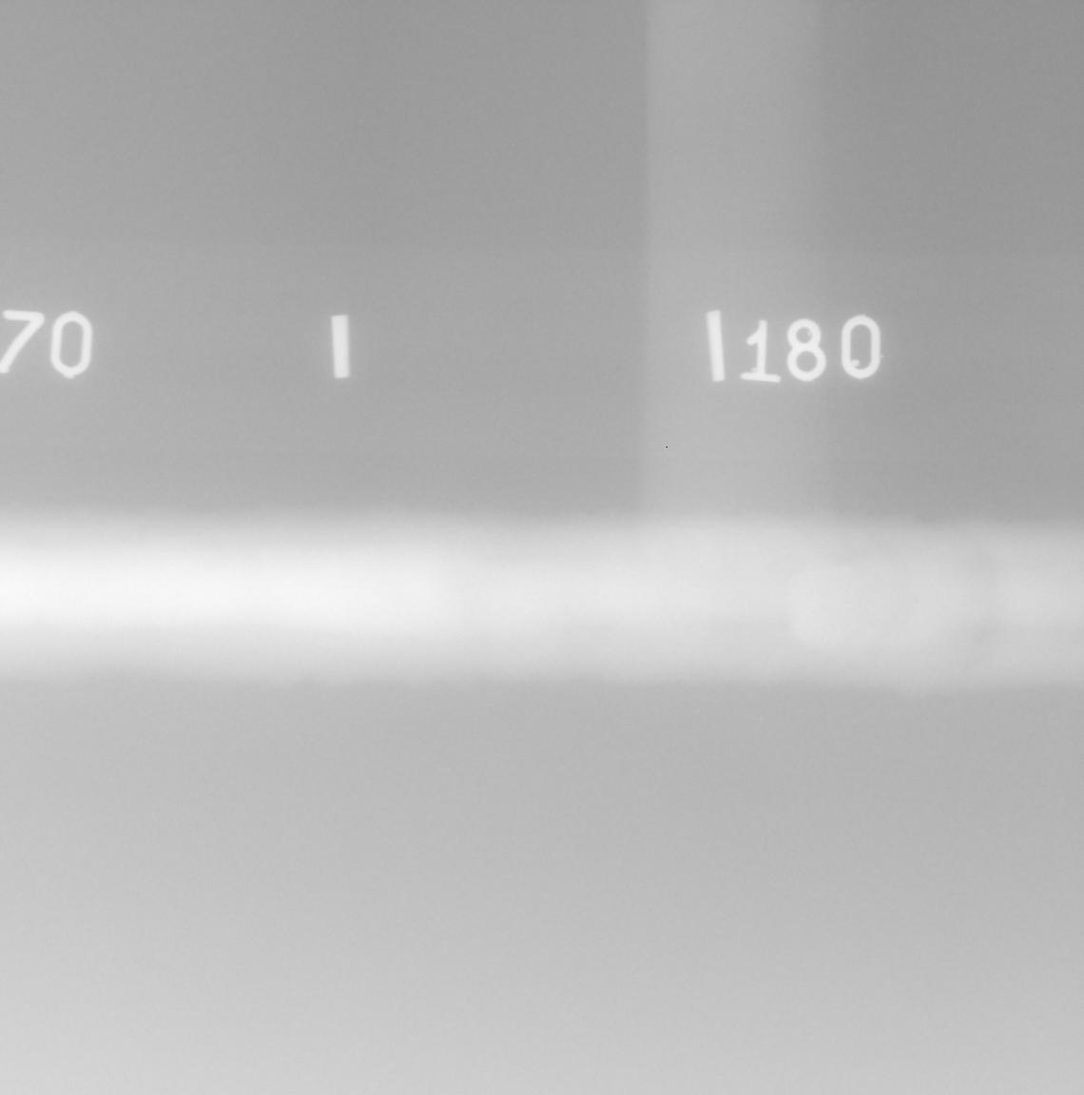Inclusion: (914, 600, 920, 604)
